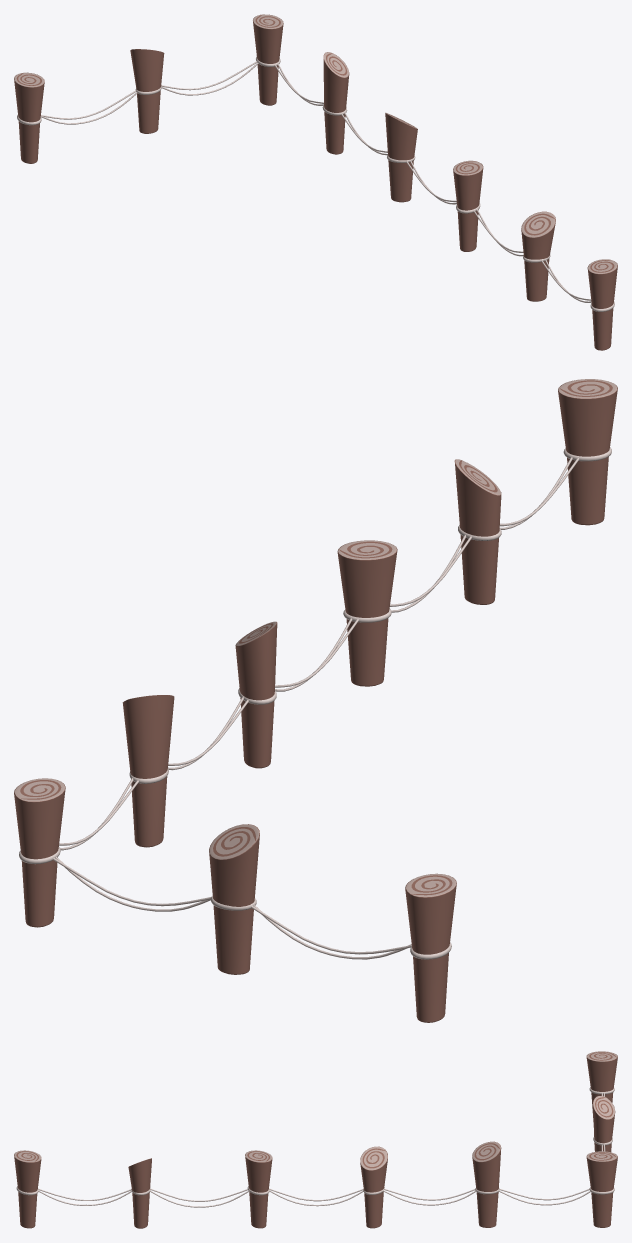
Rendered from Farm_1_Fence_1.glb.
3 renders of one model, top to bottom at view 1: azimuth 30°, elevation 25°; view 2: azimuth 150°, elevation 25°; view 3: azimuth 270°, elevation 25°, orthographic. The views are drawn at different scales.
Visible parts, largest first — view 1: Farm_1_Fence_1; view 2: Farm_1_Fence_1; view 3: Farm_1_Fence_1.
Boxes of the visible parts, x1,y1,x2,y2 form: Farm_1_Fence_1: (14,14,617,350); Farm_1_Fence_1: (14,379,617,1022); Farm_1_Fence_1: (14,1051,617,1228).
Bounding box in the file's own units: 3.99 × 1.35 × 9.1.
Materials: 1 (1 with a texture image).
